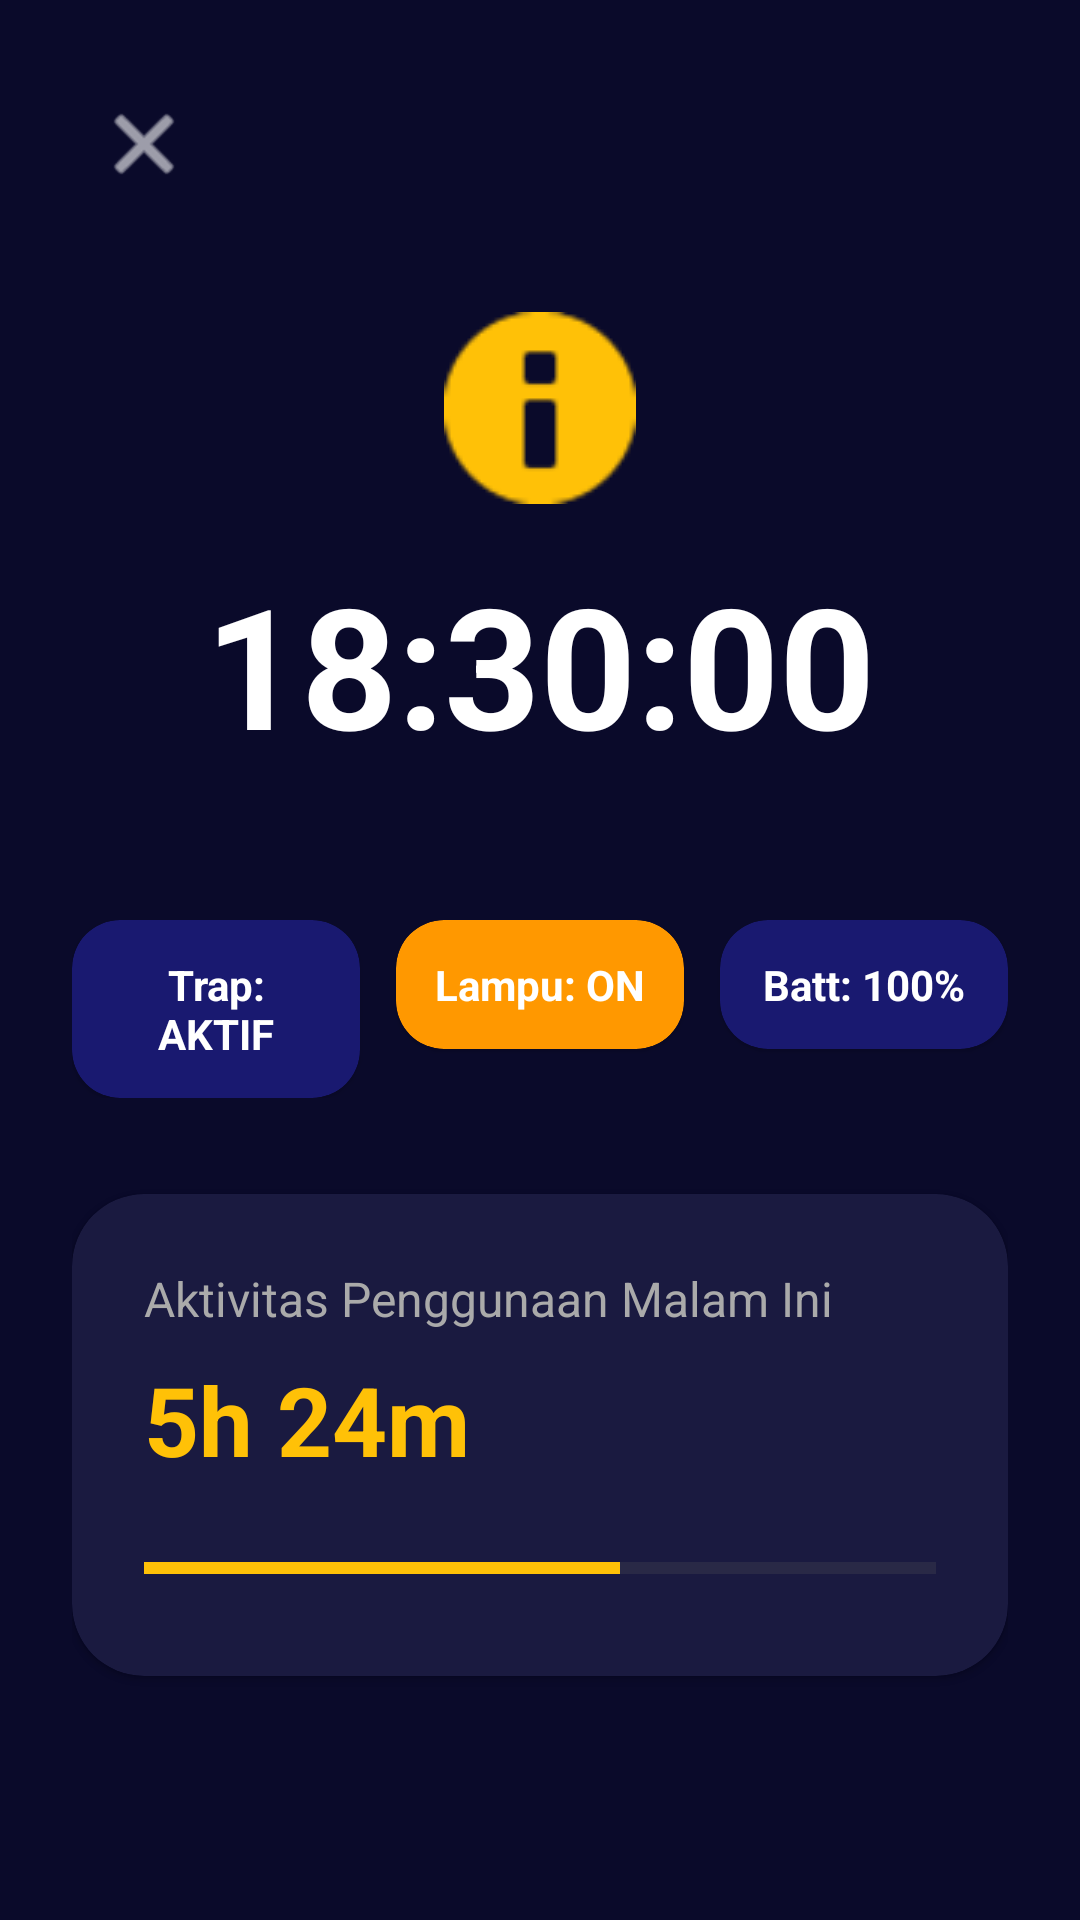

Locate icon controls on the screen. Image size 1080*1920, boxes as region(x1, y1, x2, y2).
close clear cancel: region(114, 114, 174, 174)
info: region(444, 312, 636, 504)
